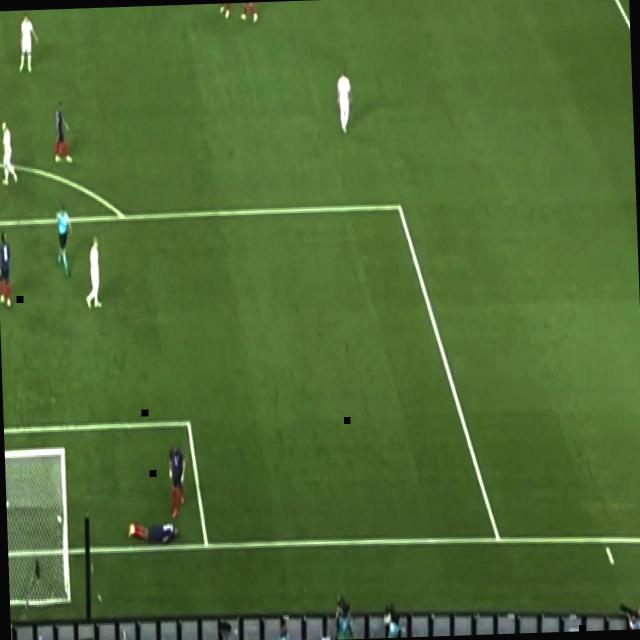player-white: (126, 515, 180, 548), (167, 439, 189, 518), (53, 201, 74, 280), (15, 11, 40, 76), (50, 98, 74, 165), (83, 233, 103, 311), (334, 67, 353, 135), (0, 117, 18, 188), (0, 230, 12, 308), (239, 2, 259, 24), (217, 3, 235, 20)
